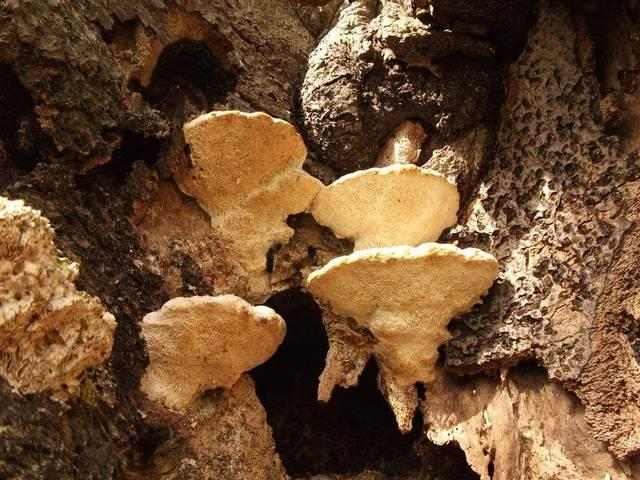Non-edible Mushroom: (171, 91, 457, 241), (305, 240, 499, 434), (0, 186, 118, 381), (136, 292, 287, 414)
